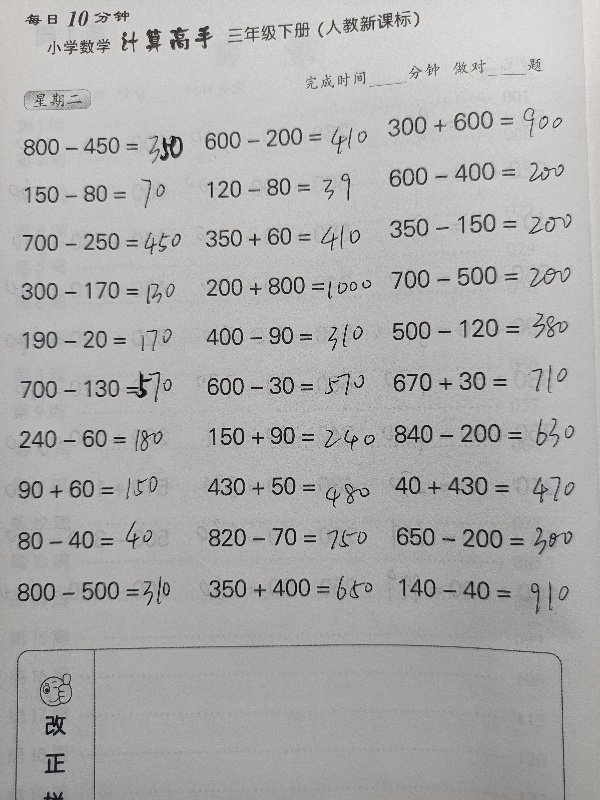equation: (384, 103, 581, 150), (383, 305, 571, 353), (12, 361, 192, 407), (390, 571, 570, 616), (8, 571, 188, 616), (388, 519, 575, 562), (386, 416, 587, 456), (15, 128, 195, 172), (384, 363, 577, 404), (385, 468, 584, 506), (9, 515, 189, 557), (199, 468, 379, 510), (197, 120, 377, 162), (197, 219, 377, 260), (201, 568, 381, 608), (9, 470, 189, 508), (11, 422, 191, 460), (15, 225, 195, 263), (12, 272, 192, 309), (198, 268, 378, 305), (380, 156, 570, 191), (381, 208, 578, 241), (199, 519, 379, 555), (198, 170, 378, 205), (388, 264, 579, 296), (198, 369, 378, 402), (13, 323, 193, 356), (197, 319, 377, 352), (16, 178, 196, 210), (205, 420, 379, 452)
